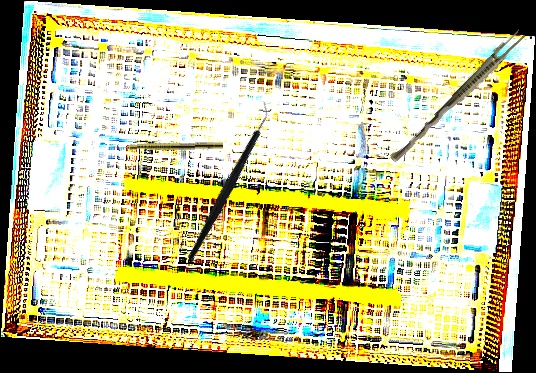Chopper: (142, 99, 313, 263)
Handpiece: (108, 141, 224, 151)
Tissue Forceps: (389, 25, 527, 169)
